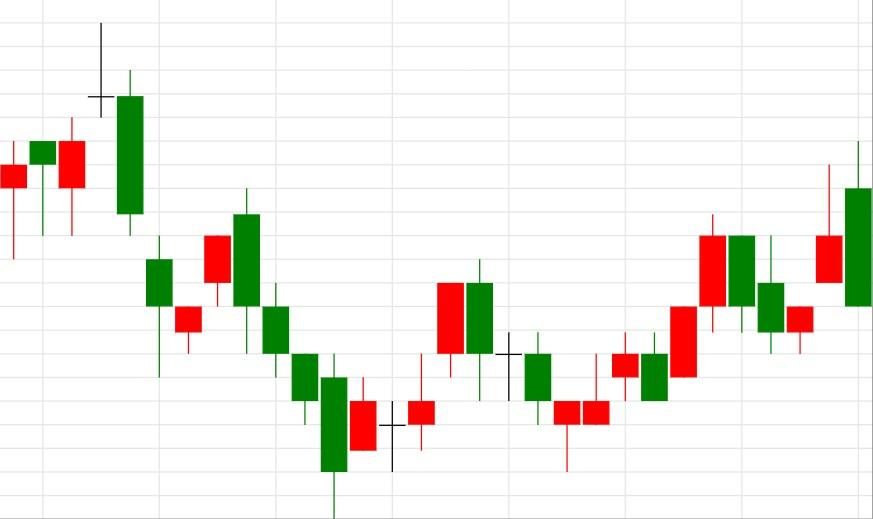bearish_engulfing_fall: (320, 258, 494, 518), (553, 332, 669, 473)
hammer_rise: (436, 258, 582, 473)
three_black_crows_fall: (175, 188, 320, 425)
